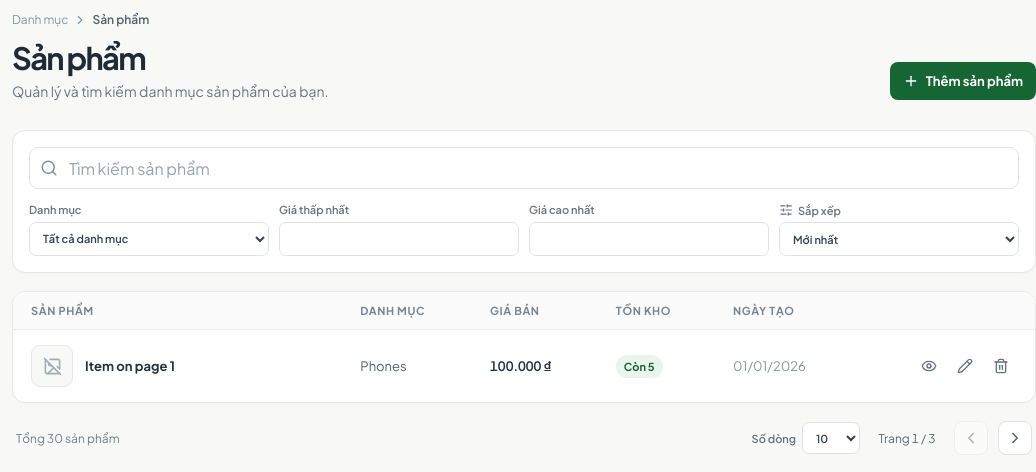
Test: admin products › scrolls the list into view when the page changes, but not on first load
The width and height of the screenshot is (1036, 472).
Expected: the text "Item on page 1" is shown, [85,358,175,374]
Click the button named "Trang sau": x=1015, y=438 [998,421,1032,455]
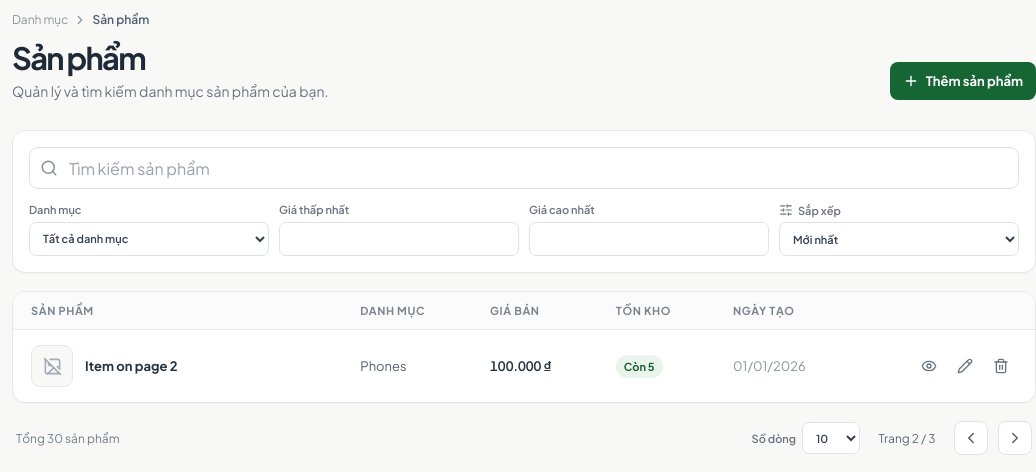
Expected: the text "Item on page 2" is shown, [85,358,178,374]
